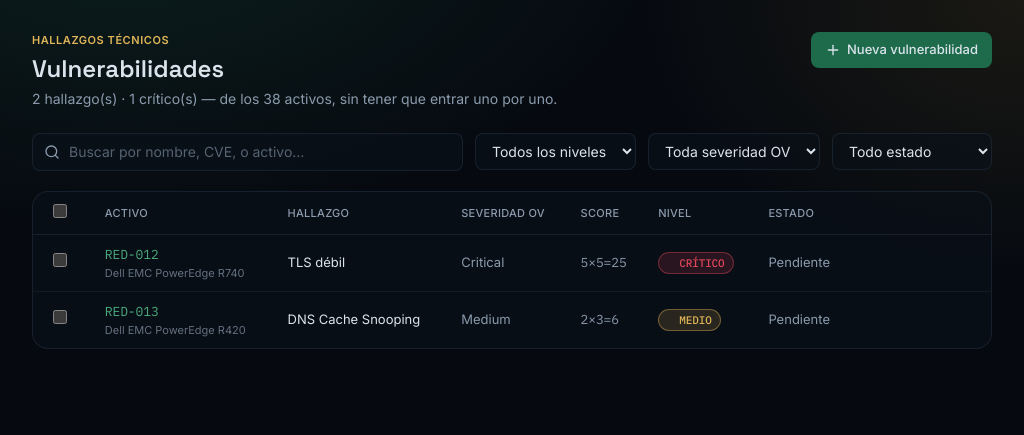
Test: Vulnerabilidades — selección › marcar dos filas dice 'seleccionadas' (plural)
Expected: the text "TLS débil" is shown, [276,234,449,292]
Click the checkbox next to "RED-012" at [60, 260], box [53,253,67,267]
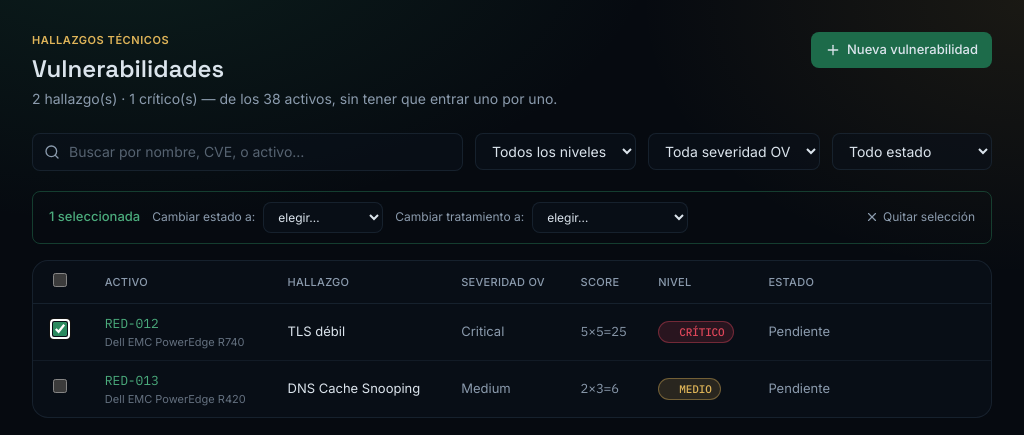
Click the checkbox next to "RED-013" at [60, 386], box [53,379,67,393]
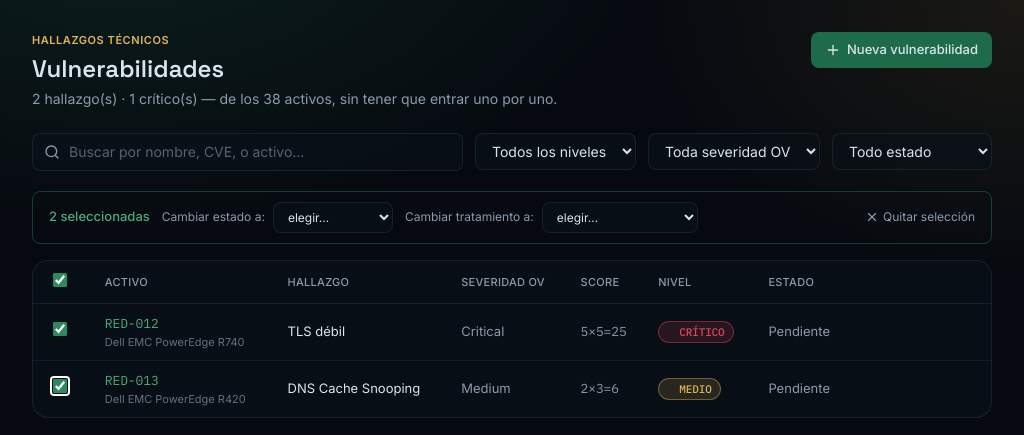
Now the text "2 seleccionadas" is shown, box [49,207,150,227]
